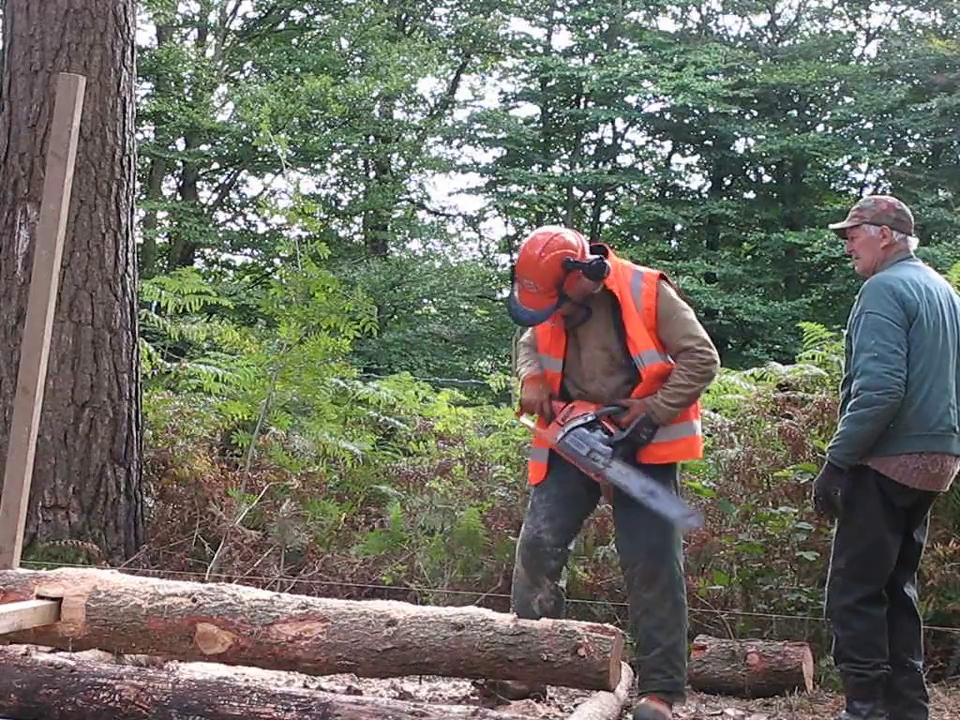victim: (498, 223, 728, 720), (801, 192, 960, 717)
